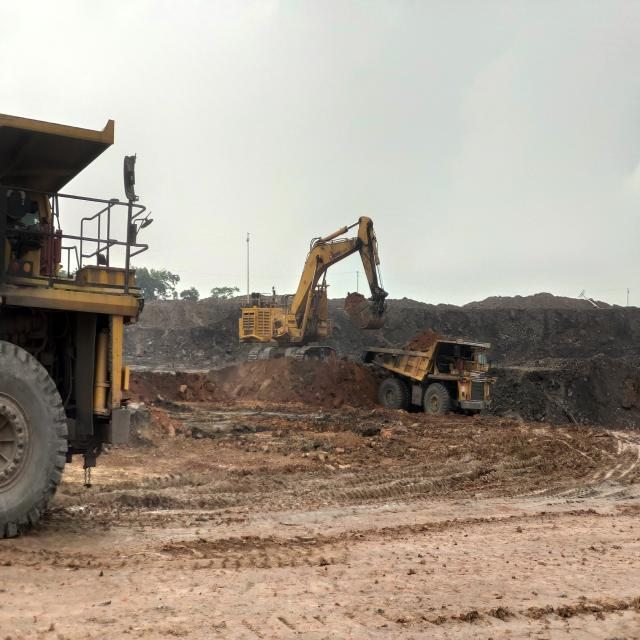dump_truck: (0, 110, 157, 540), (355, 333, 491, 413)
excavator: (239, 216, 389, 347)
